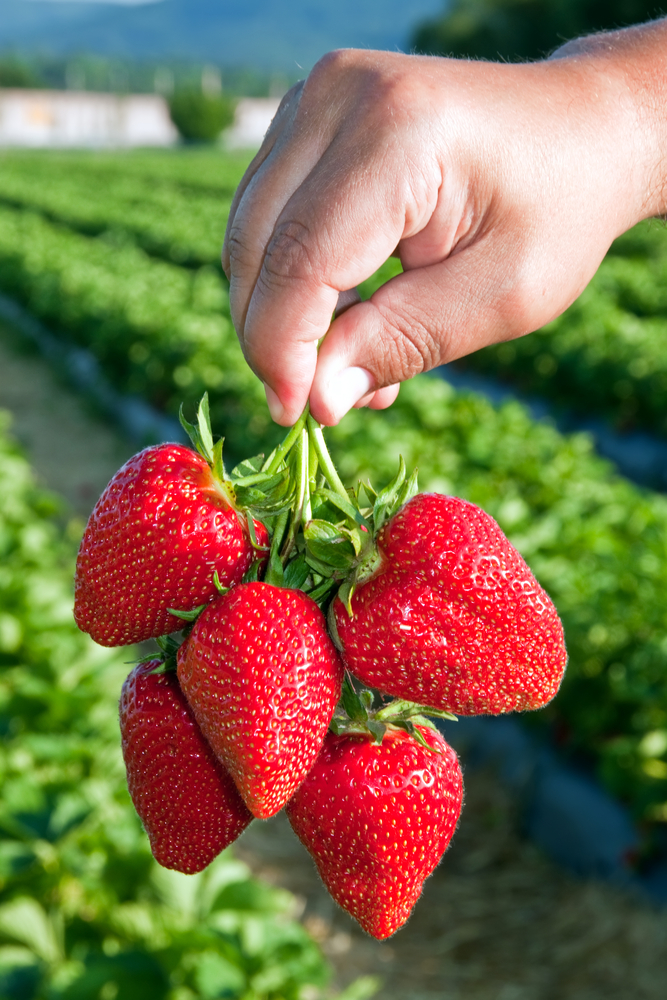ripe_strawberry: (324, 489, 575, 722), (287, 696, 476, 946), (67, 430, 276, 653), (172, 575, 348, 822), (116, 636, 257, 881)
